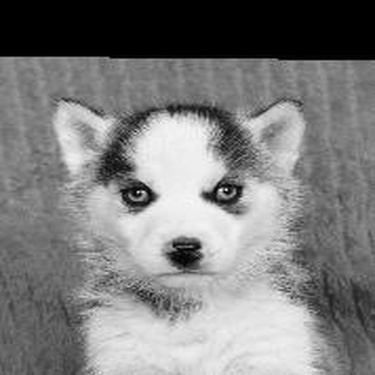dog: (51, 91, 351, 373)
